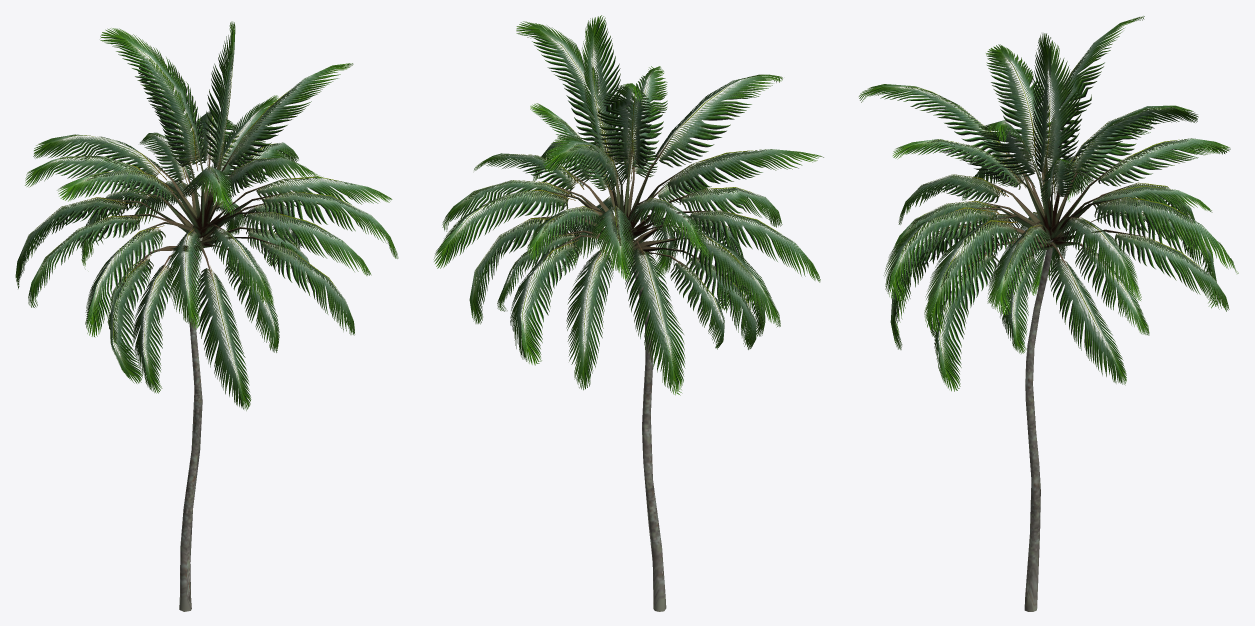
The model's file is palma_1.glb.
3 renders of one model, left to right at view 1: azimuth 30°, elevation 25°; view 2: azimuth 150°, elevation 25°; view 3: azimuth 270°, elevation 25°, orthographic. The views are drawn at different scales.
Visible parts, largest first — view 1: SM_MZRa_Palm_B082_MI_MZRa_Palm_B08a_0, SM_MZRa_Palm_B082_MI_MZRa_Palm_B08b_0; view 2: SM_MZRa_Palm_B082_MI_MZRa_Palm_B08a_0, SM_MZRa_Palm_B082_MI_MZRa_Palm_B08b_0; view 3: SM_MZRa_Palm_B082_MI_MZRa_Palm_B08a_0, SM_MZRa_Palm_B082_MI_MZRa_Palm_B08b_0.
Part boxes in pixels (x1,y1,x2,y2): SM_MZRa_Palm_B082_MI_MZRa_Palm_B08a_0: (15,21,398,410); SM_MZRa_Palm_B082_MI_MZRa_Palm_B08b_0: (100,133,289,611); SM_MZRa_Palm_B082_MI_MZRa_Palm_B08a_0: (433,15,823,395); SM_MZRa_Palm_B082_MI_MZRa_Palm_B08b_0: (534,130,718,611); SM_MZRa_Palm_B082_MI_MZRa_Palm_B08a_0: (859,16,1238,391); SM_MZRa_Palm_B082_MI_MZRa_Palm_B08b_0: (949,126,1144,611).
Size of the model in its own units: 4.43 by 6.98 by 4.
2 materials, 2 textured.
